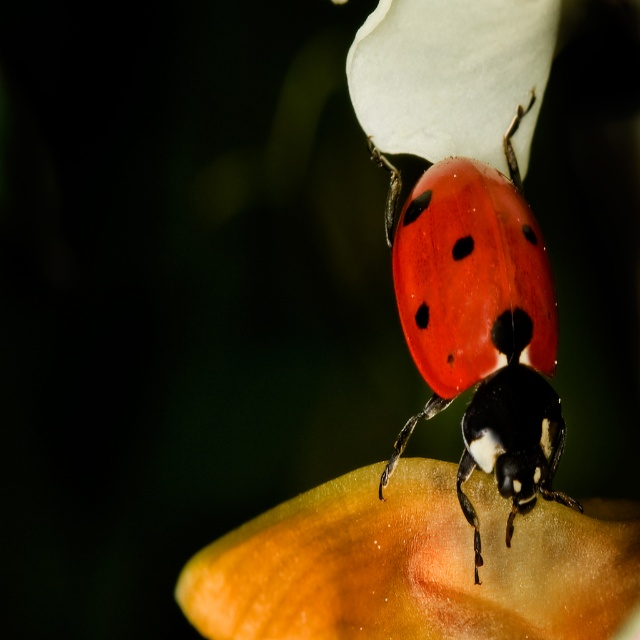Ladybug: (367, 88, 584, 587)
